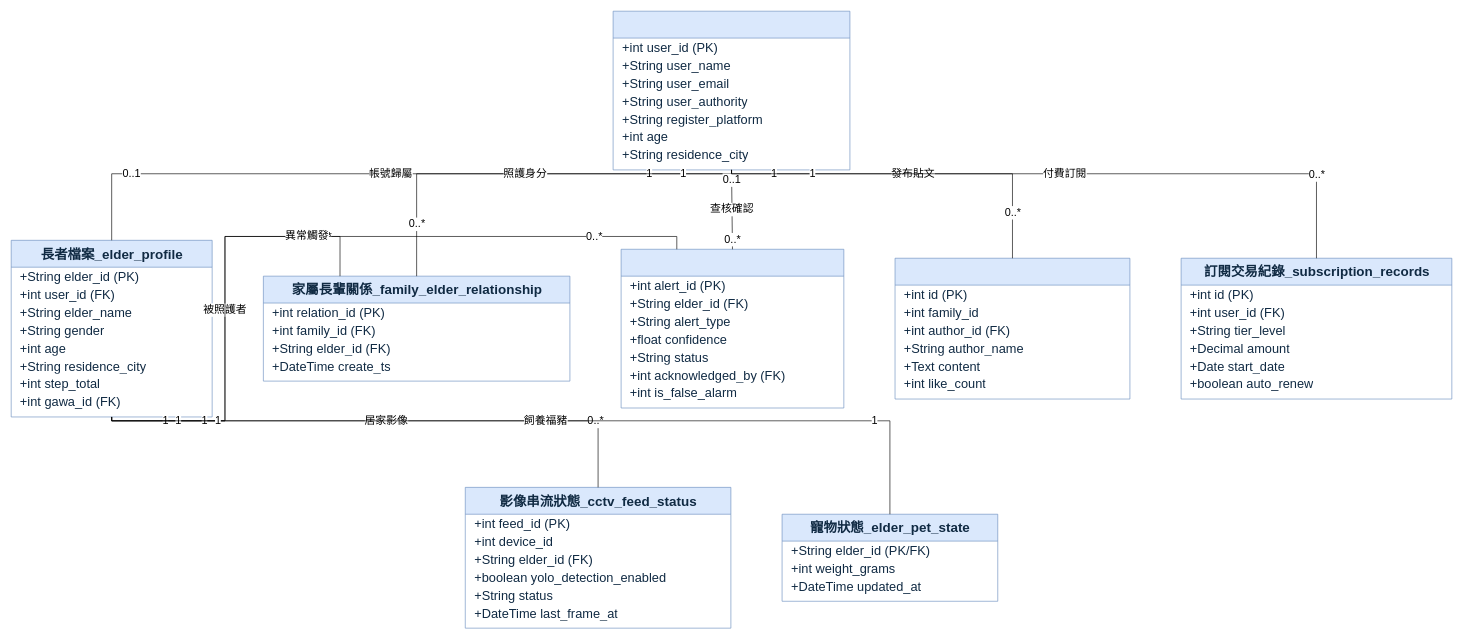
Some shapes in this 1463 by 639 pixel diagram are drawn without their labels. Here are the shapes that lost their labels. From the top down, the box of each, then its label:
(612, 11, 850, 170): 使用者帳戶_user_account_data
(620, 249, 844, 408): 緊急警報_emergency_alerts
(894, 258, 1130, 399): 家庭動態貼文_community_posts
